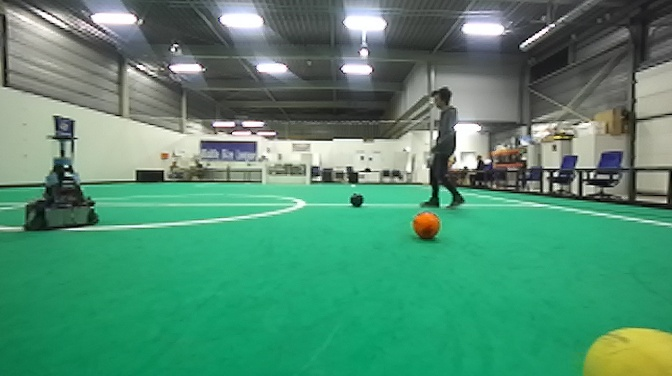ball: (569, 321, 672, 376), (409, 209, 445, 242), (346, 190, 366, 209)
goal: (261, 159, 312, 188)
goalpost: (305, 160, 312, 189), (260, 161, 266, 188)
human: (422, 84, 468, 211)
robot: (21, 110, 101, 235)
